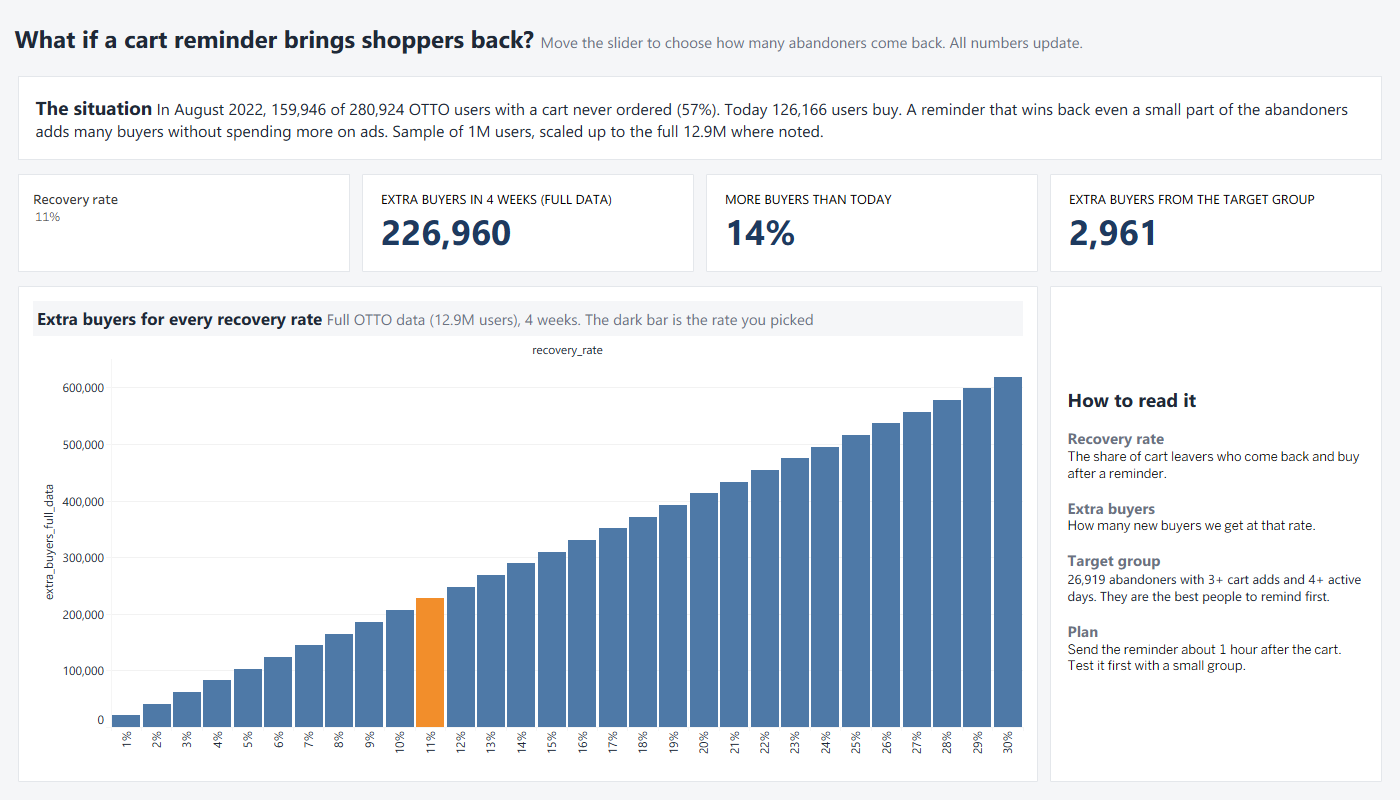

What the dashboard file says about the page in this screenshot:
{"tool":"tableau","page":{"name":"What If Dashboard","canvas":[1400,800],"ordinal":0},"visuals":[{"type":"text","box":[12,8,1376,60]},{"type":"text","box":[12,70,1376,96]},{"type":"parameter","param":"[Parameters].[Parameter 1]","box":[12,168,344,110]},{"type":"worksheet","title":"KPI extra","mark":"Text","box":[356,168,344,110]},{"type":"worksheet","title":"KPI more","mark":"Text","box":[700,168,344,110]},{"type":"worksheet","title":"KPI target","mark":"Text","box":[1044,168,344,110]},{"type":"worksheet","title":"Extra buyers by recovery rate","mark":"Bar","rows":["extra_buyers_full_data"],"cols":["recovery_rate"],"box":[12,280,1032,508]},{"type":"text","box":[1044,280,344,508]}]}

Visuals, with their boxes in screenshot pixels (x1, y1, x2, y2), scaled from the page's 1400x800 canvas onto the 1400x800 screenshot:
text: {"x1": 12, "y1": 8, "x2": 1388, "y2": 68}
text: {"x1": 12, "y1": 70, "x2": 1388, "y2": 166}
parameter: {"x1": 12, "y1": 168, "x2": 356, "y2": 278}
"KPI extra" worksheet (Text marks): {"x1": 356, "y1": 168, "x2": 700, "y2": 278}
"KPI more" worksheet (Text marks): {"x1": 700, "y1": 168, "x2": 1044, "y2": 278}
"KPI target" worksheet (Text marks): {"x1": 1044, "y1": 168, "x2": 1388, "y2": 278}
"Extra buyers by recovery rate" worksheet (Bar marks): {"x1": 12, "y1": 280, "x2": 1044, "y2": 788}
text: {"x1": 1044, "y1": 280, "x2": 1388, "y2": 788}
